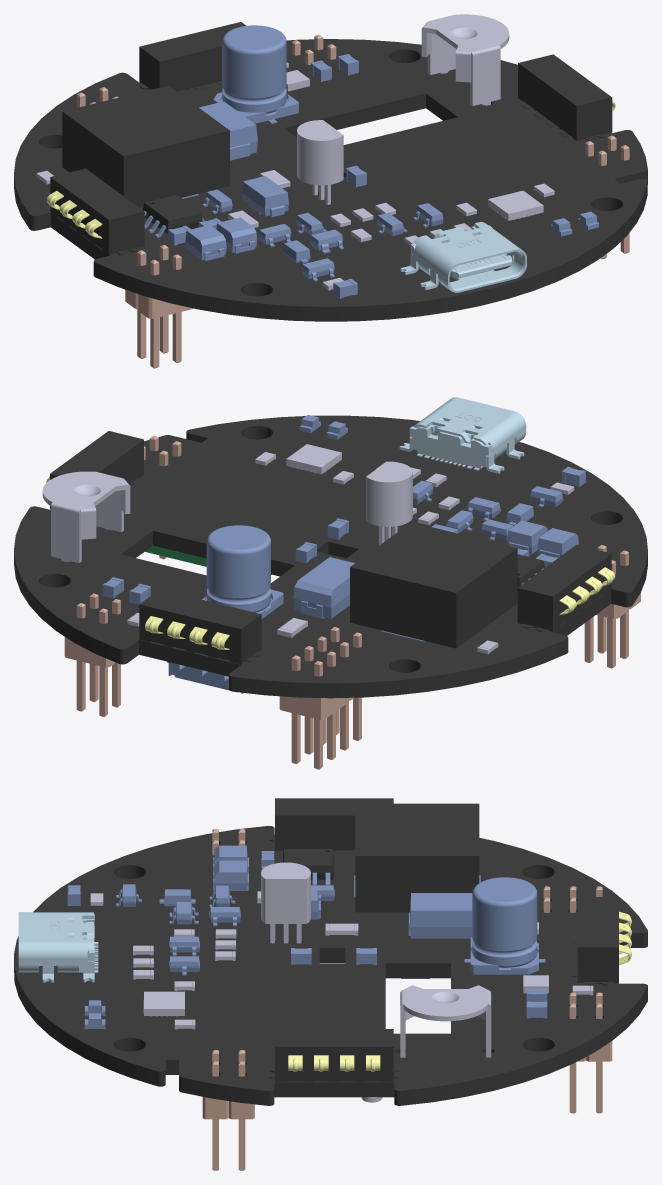
The model's file is cansat 3.0 Control_Unit.glb.
3 renders of one model, top to bottom at view 1: azimuth 30°, elevation 25°; view 2: azimuth 150°, elevation 25°; view 3: azimuth 270°, elevation 25°, orthographic.
Parts seen in each view (by area): view 1: Solid1 (×21); view 2: Solid1 (×19); view 3: Solid1 (×18).
Part boxes in pixels (<box>): Solid1 (×21): <box>14,14,647,368</box>; Solid1 (×19): <box>14,397,647,769</box>; Solid1 (×18): <box>14,798,647,1170</box>.
Bounding box in the file's own units: 0.0607 × 0.0179 × 0.0613.
